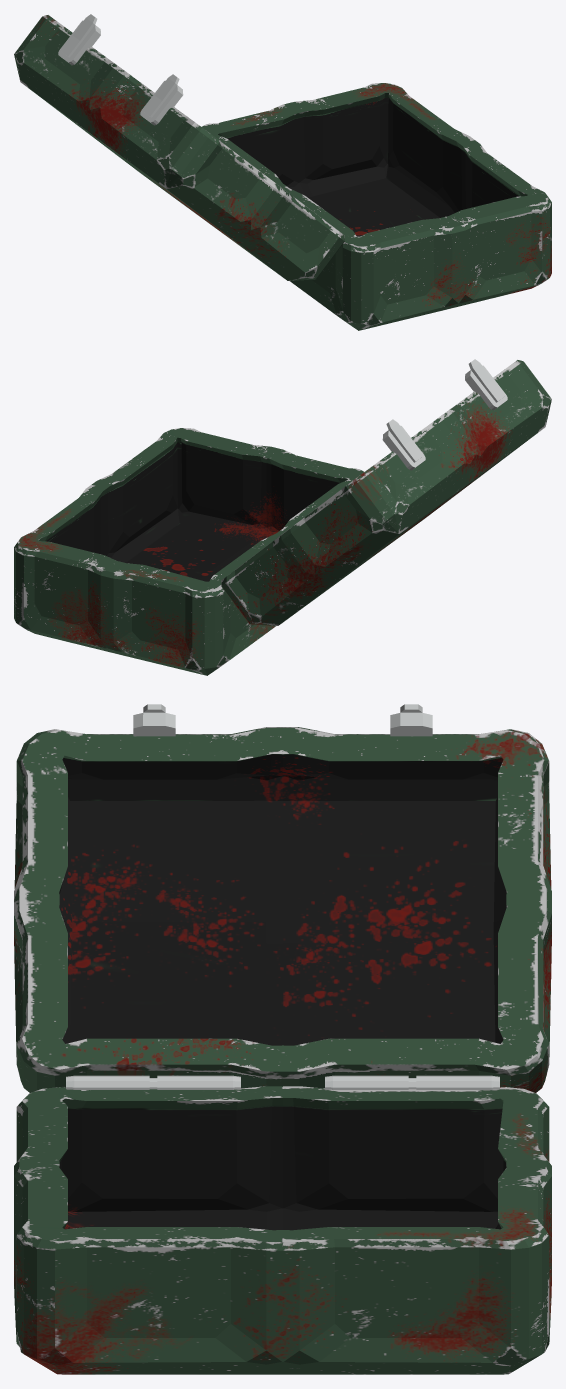
Rendered from Mili-Box-Obtuse-Color.fbx.
3 renders of one model, top to bottom at view 1: azimuth 30°, elevation 25°; view 2: azimuth 150°, elevation 25°; view 3: azimuth 270°, elevation 25°, orthographic. The views are drawn at different scales.
Visible parts, largest first — view 1: loweruv.001; view 2: loweruv.001; view 3: loweruv.001.
Part boxes in pixels (x1=…): loweruv.001: x1=14, y1=14, x2=551, y2=330; loweruv.001: x1=14, y1=359, x2=551, y2=675; loweruv.001: x1=14, y1=704, x2=551, y2=1374.
Bounding box in the file's own units: 518 × 345 × 399.
Materials: 4 (4 with a texture image).
